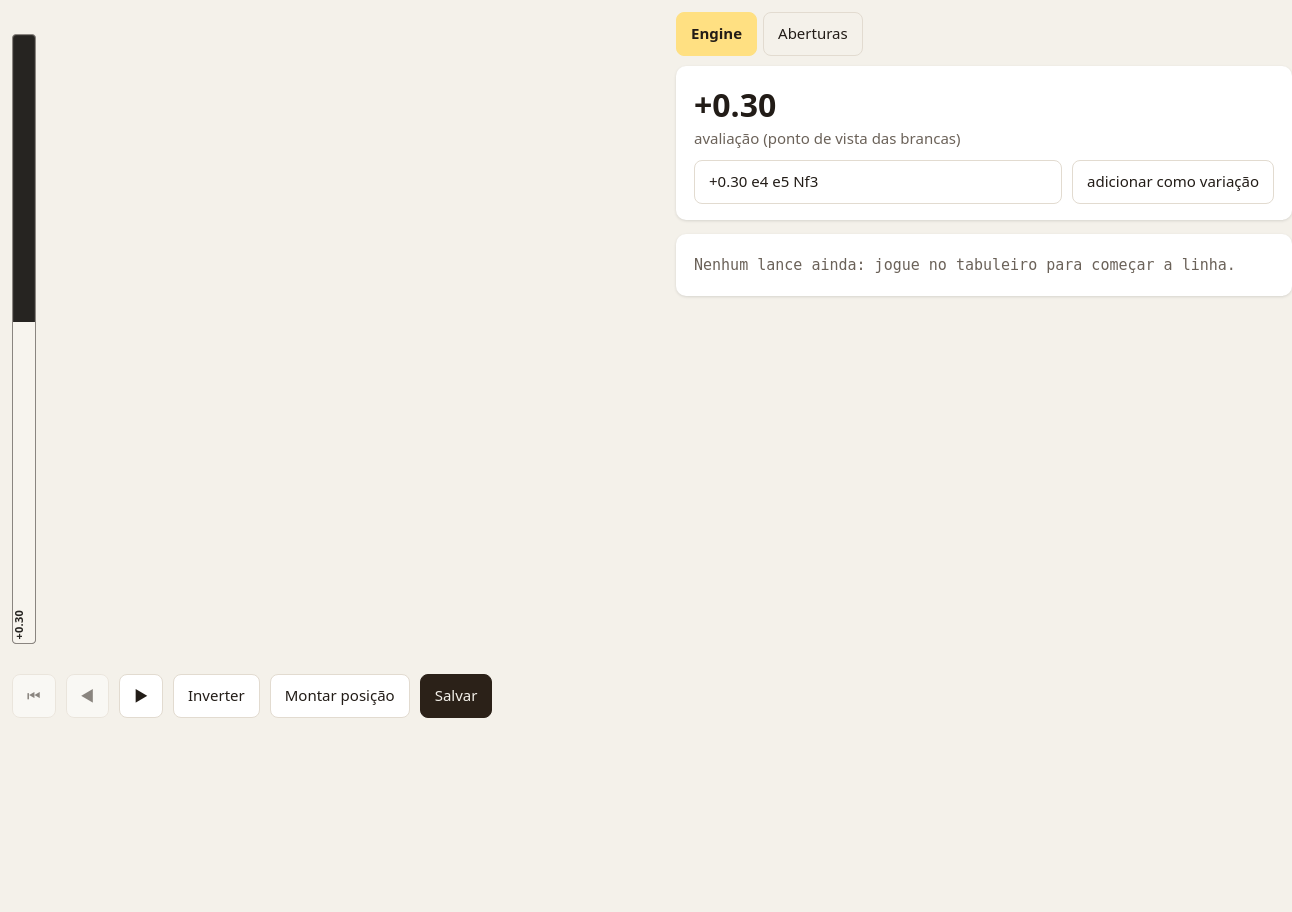
Test: a linha do motor entra como variação
Step 1. Click the button "adicionar como variação" → coordinates (1173, 182), box [1072,160,1274,204]
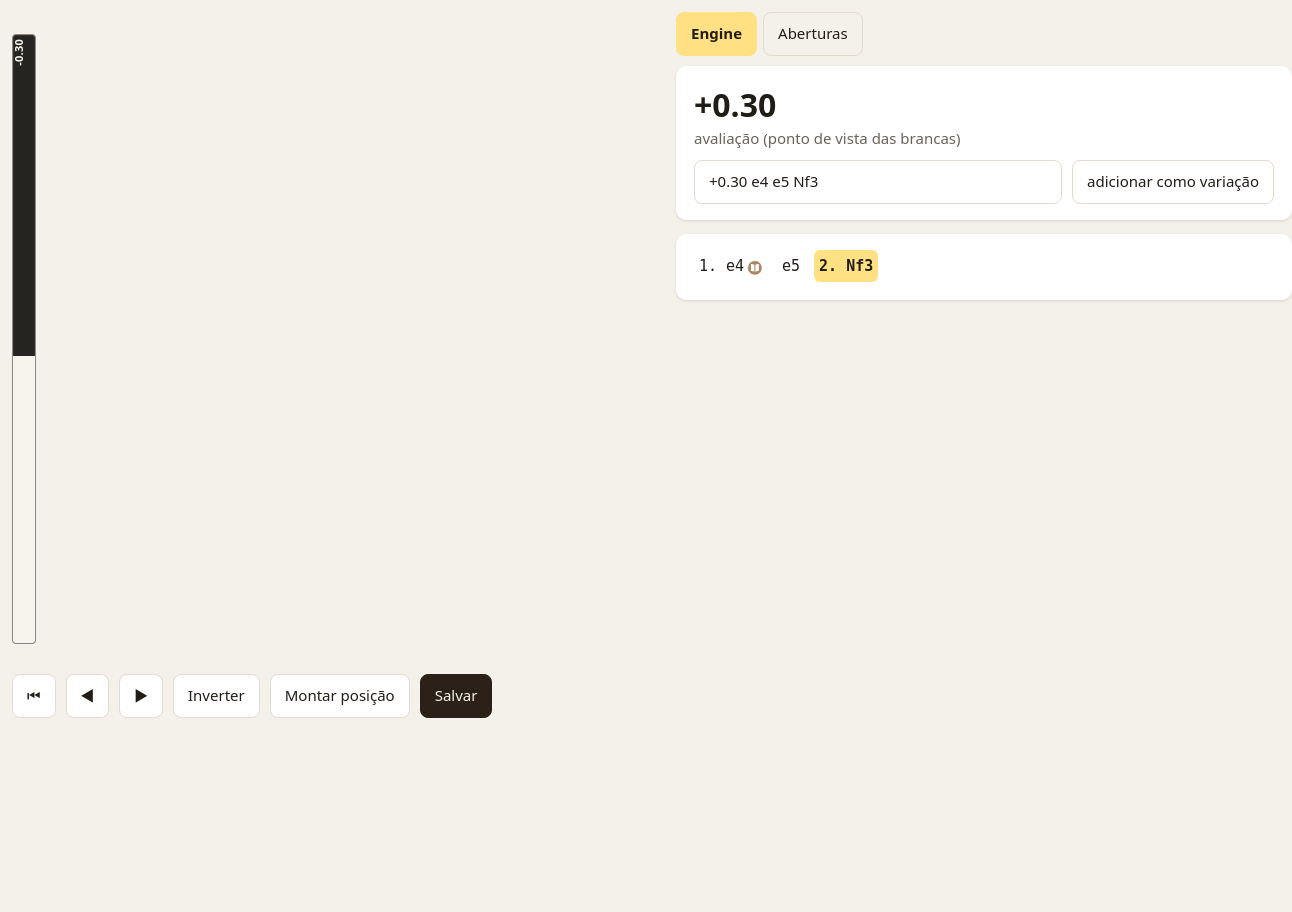
Check: the text "2. Nf3" is shown, box [814,250,878,282]
